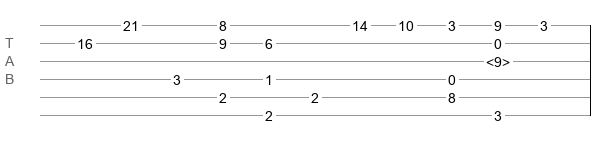0: (448, 72, 456, 82), (494, 36, 502, 46)
1: (265, 72, 273, 82)
10: (398, 18, 414, 28)
14: (352, 18, 368, 28)
16: (77, 36, 93, 46)
2: (219, 90, 227, 100), (265, 108, 273, 118), (311, 90, 319, 100)
21: (123, 18, 139, 28)
3: (173, 72, 181, 82), (448, 18, 456, 28), (494, 108, 502, 118), (540, 18, 548, 28)
6: (265, 36, 273, 46)
8: (219, 18, 227, 28), (448, 90, 456, 100)
9: (219, 36, 227, 46), (494, 18, 502, 28)
harmonic: (486, 54, 510, 64)
